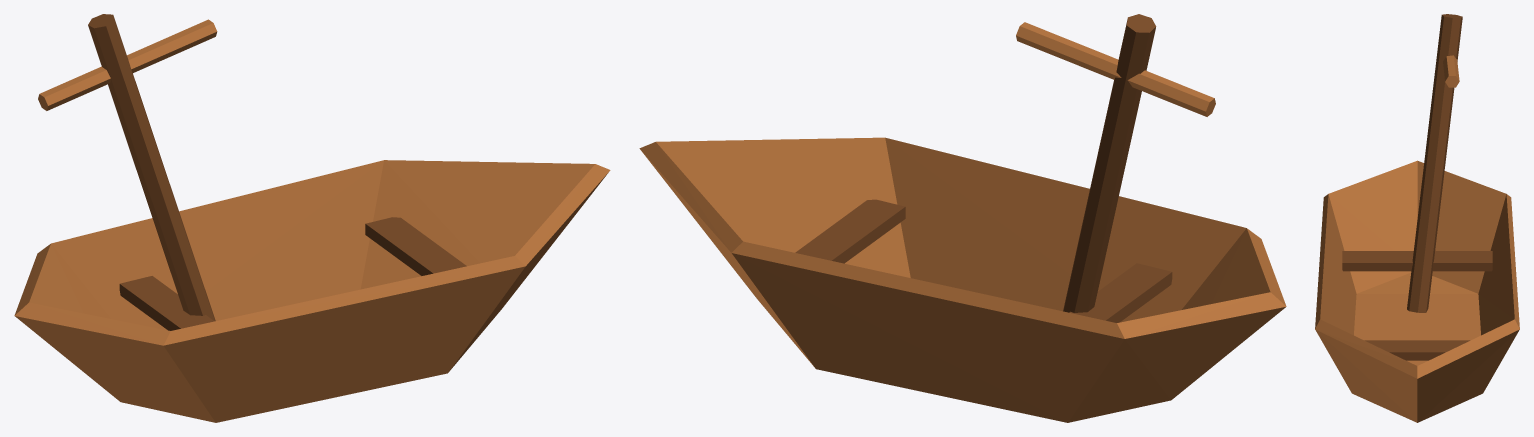
The model's file is aq_shipwreck_small.fbx.
The picture shows the model from 3 angles, left to right: view 1: azimuth 30°, elevation 25°; view 2: azimuth 150°, elevation 25°; view 3: azimuth 270°, elevation 25°; orthographic projection. The views are drawn at different scales.
Visible parts, largest first — view 1: aq_shipwreck_small; view 2: aq_shipwreck_small; view 3: aq_shipwreck_small.
Boxes of the visible parts, <box> form: aq_shipwreck_small: <box>14,14,610,422</box>; aq_shipwreck_small: <box>639,14,1286,422</box>; aq_shipwreck_small: <box>1315,14,1519,422</box>.
Size of the model in its own units: 3 by 1.8 by 1.2.
